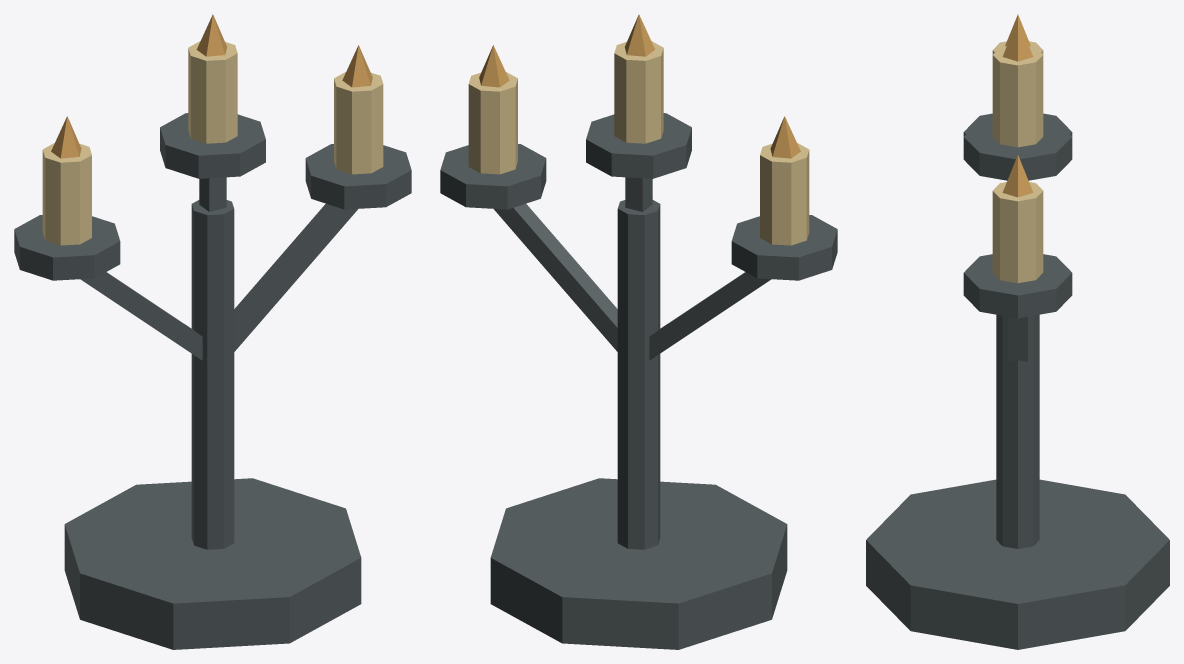
Rendered from Decor_Candlestand.fbx.
3 views of the same model, side by side, from view 1: azimuth 30°, elevation 25°; view 2: azimuth 150°, elevation 25°; view 3: azimuth 270°, elevation 25° (orthographic).
Visible parts, largest first — view 1: Decor_Candlestand; view 2: Decor_Candlestand; view 3: Decor_Candlestand.
Part boxes in pixels (box(x1,y1,x2,y2)): Decor_Candlestand: box(14, 14, 411, 649); Decor_Candlestand: box(440, 14, 837, 649); Decor_Candlestand: box(866, 14, 1169, 649).
Size of the model in its own units: 1.22 by 1.73 by 0.84.
